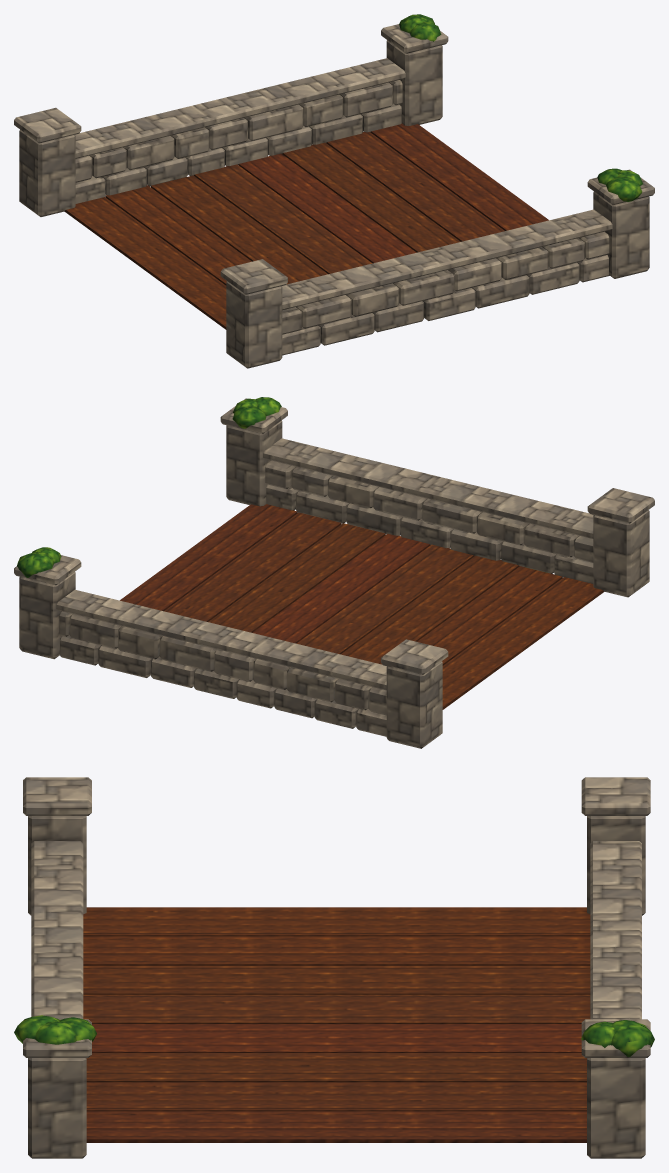
The model's file is mapkit_bridge_forest.fbx.
The picture shows the model from 3 angles, top to bottom: view 1: azimuth 30°, elevation 25°; view 2: azimuth 150°, elevation 25°; view 3: azimuth 270°, elevation 25°; orthographic projection. The views are drawn at different scales.
Visible parts, largest first — view 1: Body; view 2: Body; view 3: Body.
Part boxes in pixels (x1,y1,x2,y2): Body: (14, 14, 654, 368); Body: (14, 397, 654, 748); Body: (14, 777, 654, 1158).
Size of the model in its own units: 1873 by 413 by 1858.
Materials: 1 (1 with a texture image).
